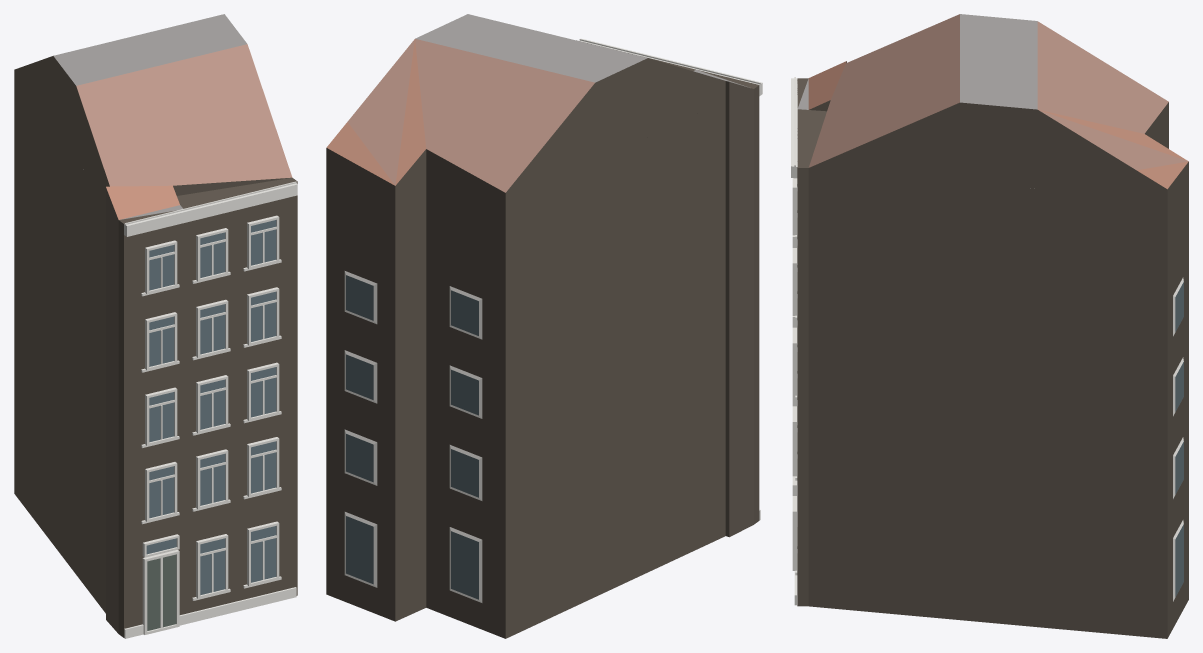
Rendered from chunk-face-groenburgwal-1-37-h4.glb.
The picture shows the model from 3 angles, left to right: view 1: azimuth 30°, elevation 25°; view 2: azimuth 150°, elevation 25°; view 3: azimuth 270°, elevation 25°; orthographic projection. The views are drawn at different scales.
Visible parts, largest first — view 1: face-groenburgwal-1-37-h4; view 2: face-groenburgwal-1-37-h4; view 3: face-groenburgwal-1-37-h4.
Boxes of the visible parts, x1,y1,x2,y2 form: face-groenburgwal-1-37-h4: (14, 14, 297, 638); face-groenburgwal-1-37-h4: (326, 14, 762, 638); face-groenburgwal-1-37-h4: (791, 14, 1188, 638).
Bounding box in the file's own units: 7.95 × 15.69 × 10.92.
